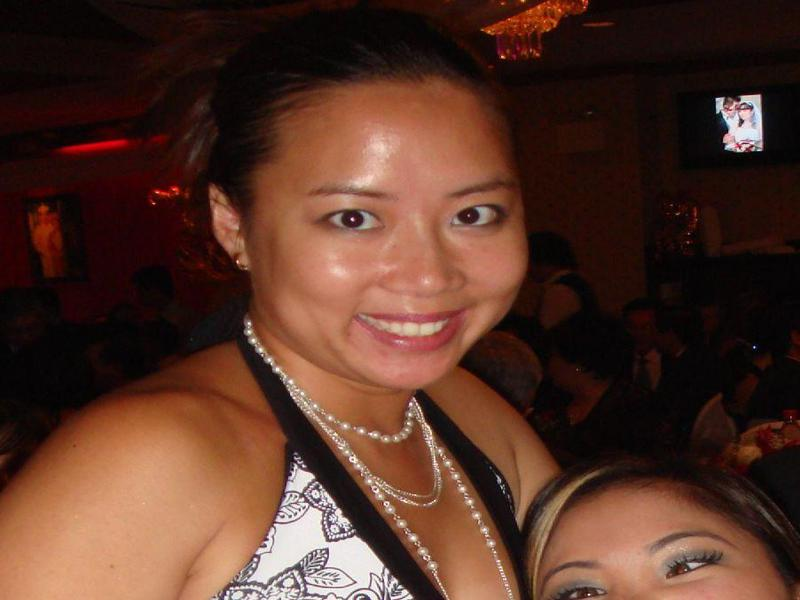person: (4, 8, 578, 600), (528, 459, 800, 597)
